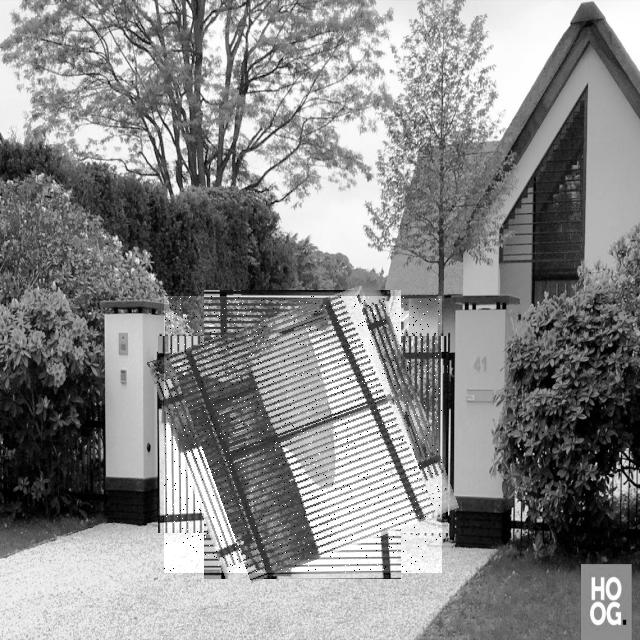fences: (164, 296, 442, 573)
